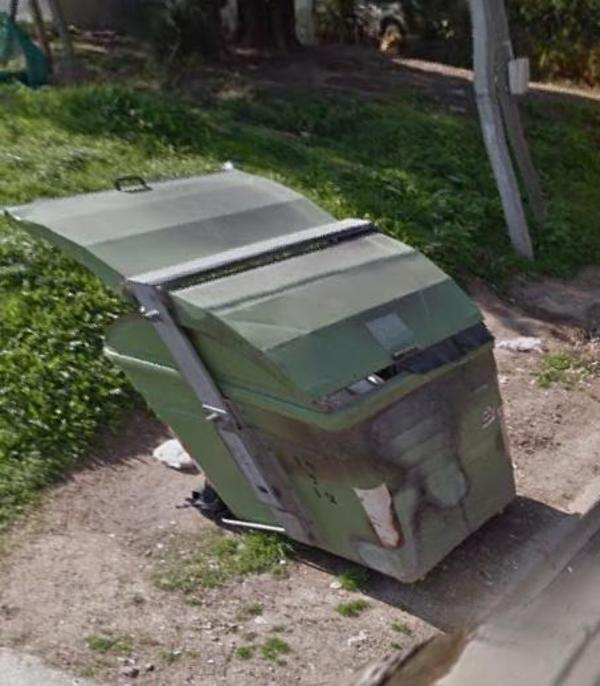Dechets: (177, 479, 230, 526), (146, 436, 199, 473)
Trash: (5, 169, 514, 582)
